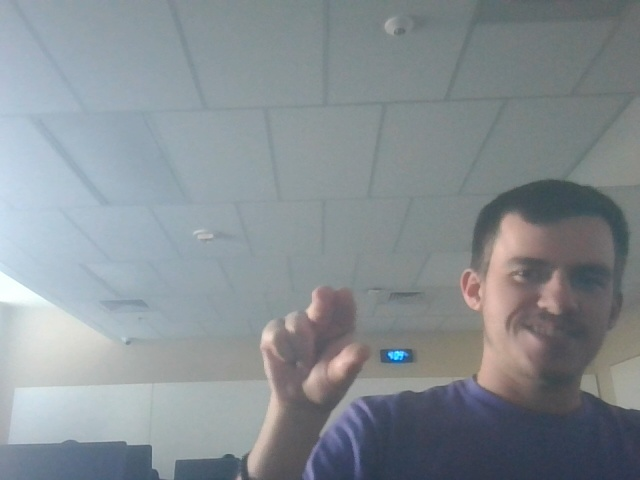no: (247, 276, 381, 414)
